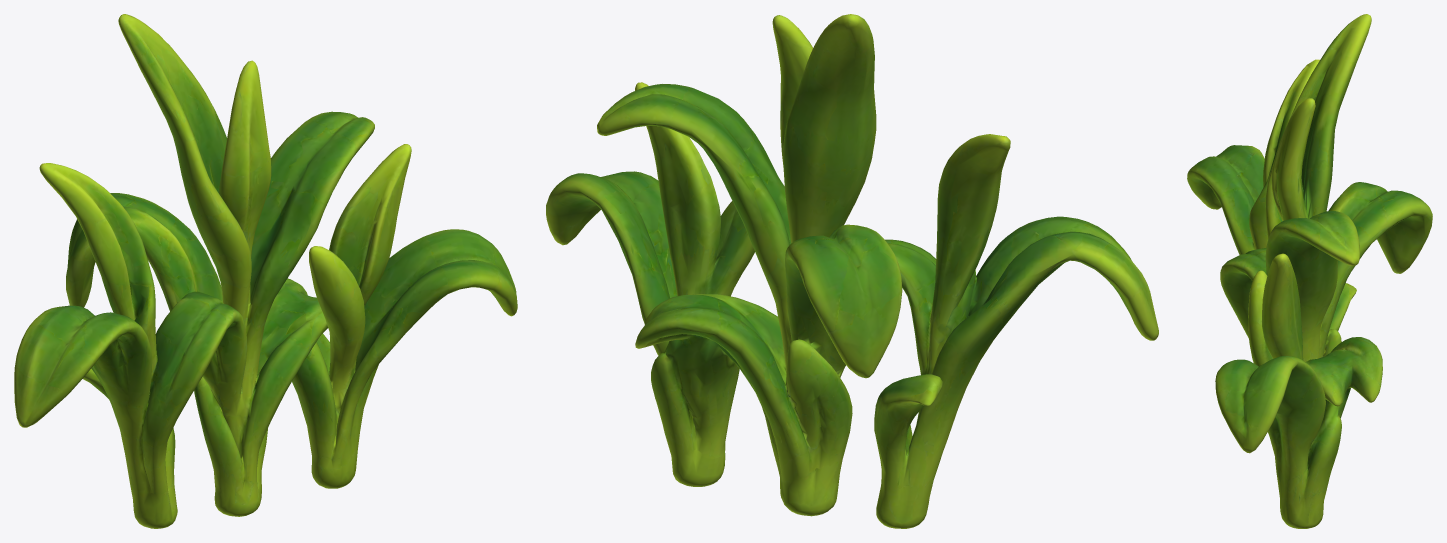
File: wheat-sprout.glb
3 renders of one model, left to right at view 1: azimuth 30°, elevation 25°; view 2: azimuth 150°, elevation 25°; view 3: azimuth 270°, elevation 25°, orthographic. The views are drawn at different scales.
Size of the model in its own units: 1.9 by 1.71 by 0.8711.
1 material, 1 textured.
